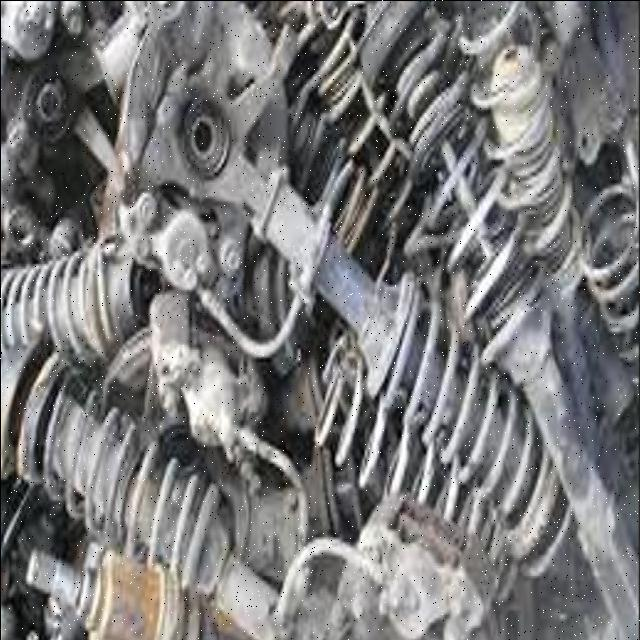shock absorber: (136, 24, 574, 581), (358, 2, 637, 638), (1, 341, 273, 638)
